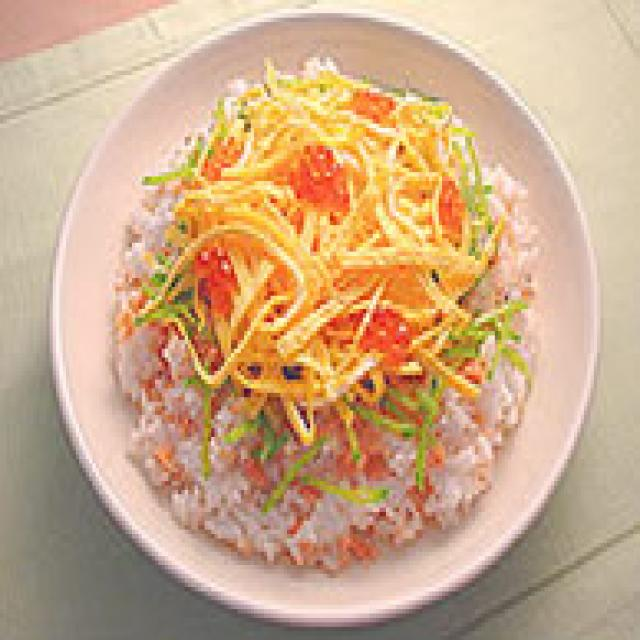寿司卷物: (33, 0, 604, 640)
